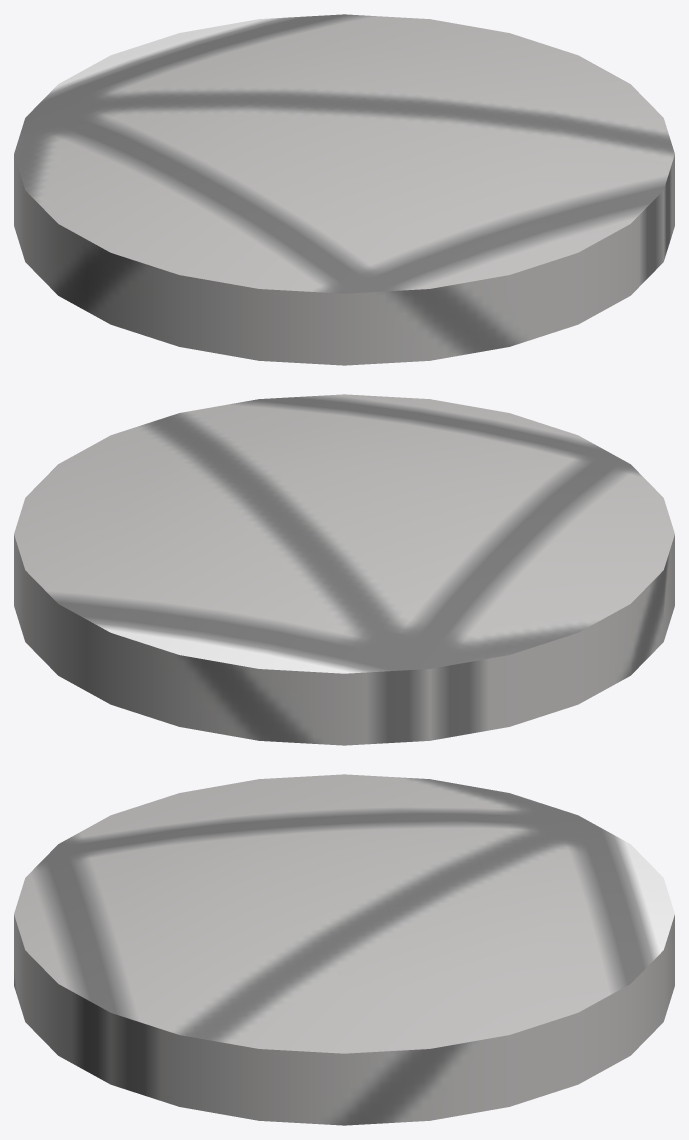
File: engine.fbx
3 views of the same model, one above another, from view 1: azimuth 30°, elevation 25°; view 2: azimuth 150°, elevation 25°; view 3: azimuth 270°, elevation 25° (orthographic).
Visible parts, largest first — view 1: mesh; view 2: mesh; view 3: mesh.
Part boxes in pixels (left/top/right/bottom): mesh: left=14, top=14, right=674, bottom=365; mesh: left=14, top=394, right=674, bottom=745; mesh: left=14, top=774, right=674, bottom=1125.
Size of the model in its own units: 0.625 by 0.1437 by 0.625.
